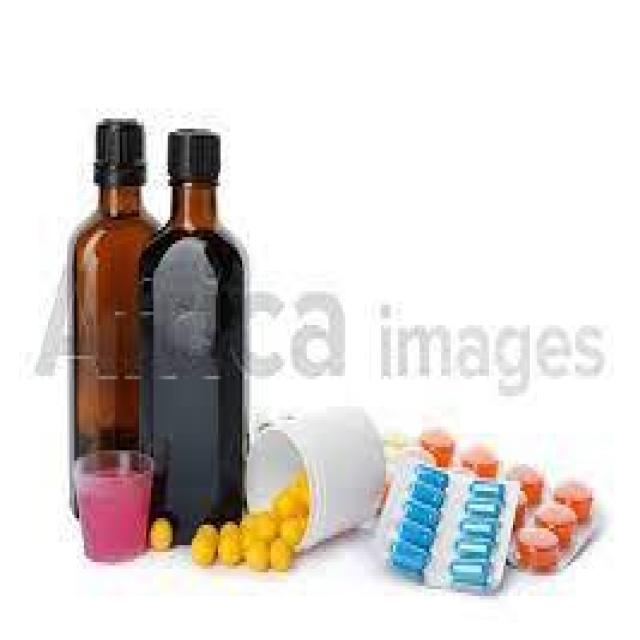B3: (137, 101, 259, 548), (53, 98, 163, 474), (377, 450, 528, 603)
